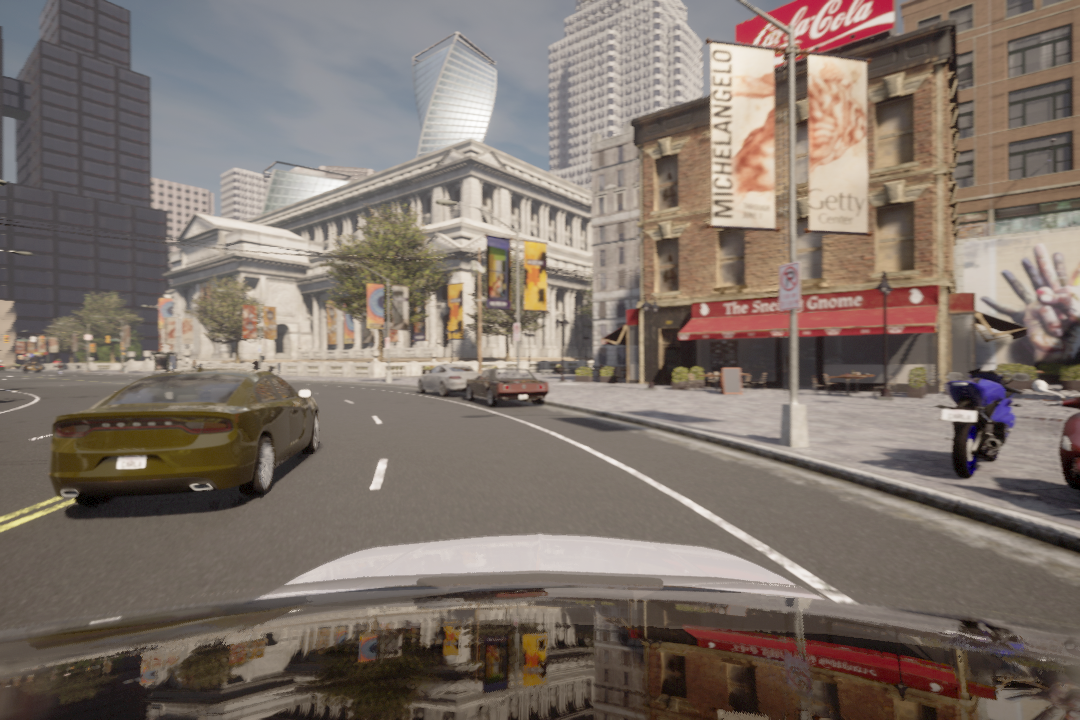TrafficSign_nstop: (777, 264, 804, 313)
